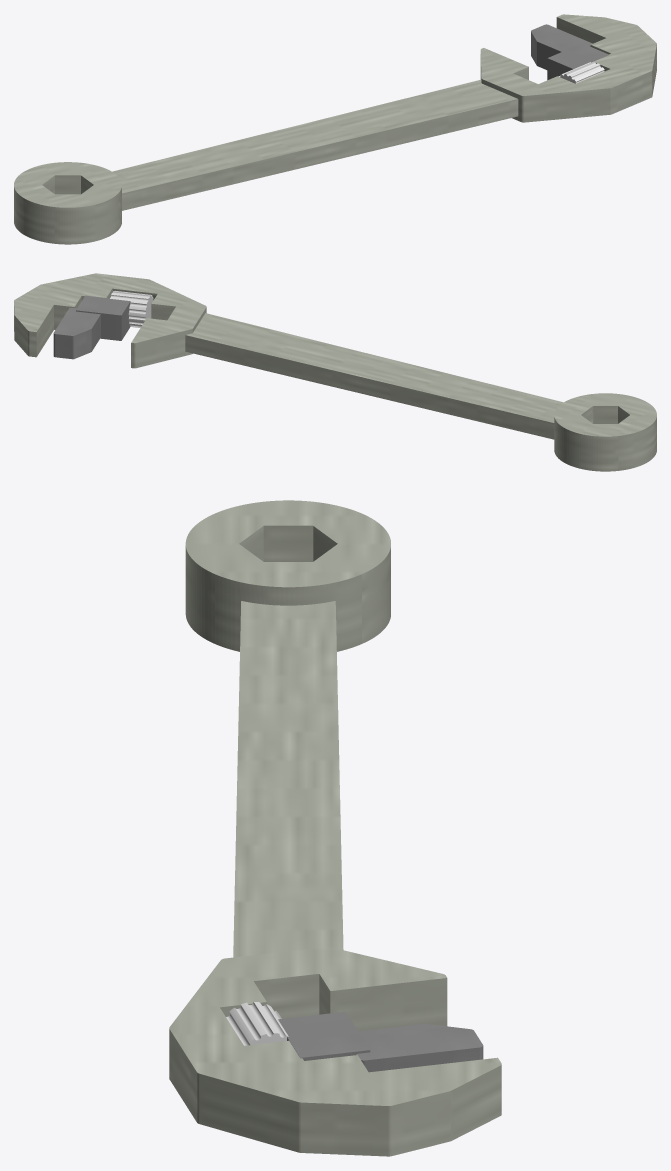
Rendered from Handtools_Wrench__0000.glb.
3 renders of one model, top to bottom at view 1: azimuth 30°, elevation 25°; view 2: azimuth 150°, elevation 25°; view 3: azimuth 270°, elevation 25°, orthographic. The views are drawn at different scales.
Parts seen in each view (by area): view 1: wrench_body::body_shell, movable_jaw::jaw_shell, worm_screw::worm_wheel; view 2: wrench_body::body_shell, movable_jaw::jaw_shell, worm_screw::worm_wheel; view 3: wrench_body::body_shell, movable_jaw::jaw_shell, worm_screw::worm_wheel.
Part boxes in pixels (x1,y1,x2,y2): wrench_body::body_shell: [14, 14, 656, 244]; movable_jaw::jaw_shell: [531, 24, 608, 80]; worm_screw::worm_wheel: [558, 61, 604, 83]; wrench_body::body_shell: [14, 273, 656, 471]; movable_jaw::jaw_shell: [53, 295, 130, 359]; worm_screw::worm_wheel: [110, 290, 153, 327]; wrench_body::body_shell: [169, 500, 501, 1156]; movable_jaw::jaw_shell: [278, 1011, 483, 1072]; worm_screw::worm_wheel: [226, 1002, 288, 1045].
Bounding box in the file's own units: 0.3295 × 0.018 × 0.0777.
Materials: 3 (3 with a texture image).
